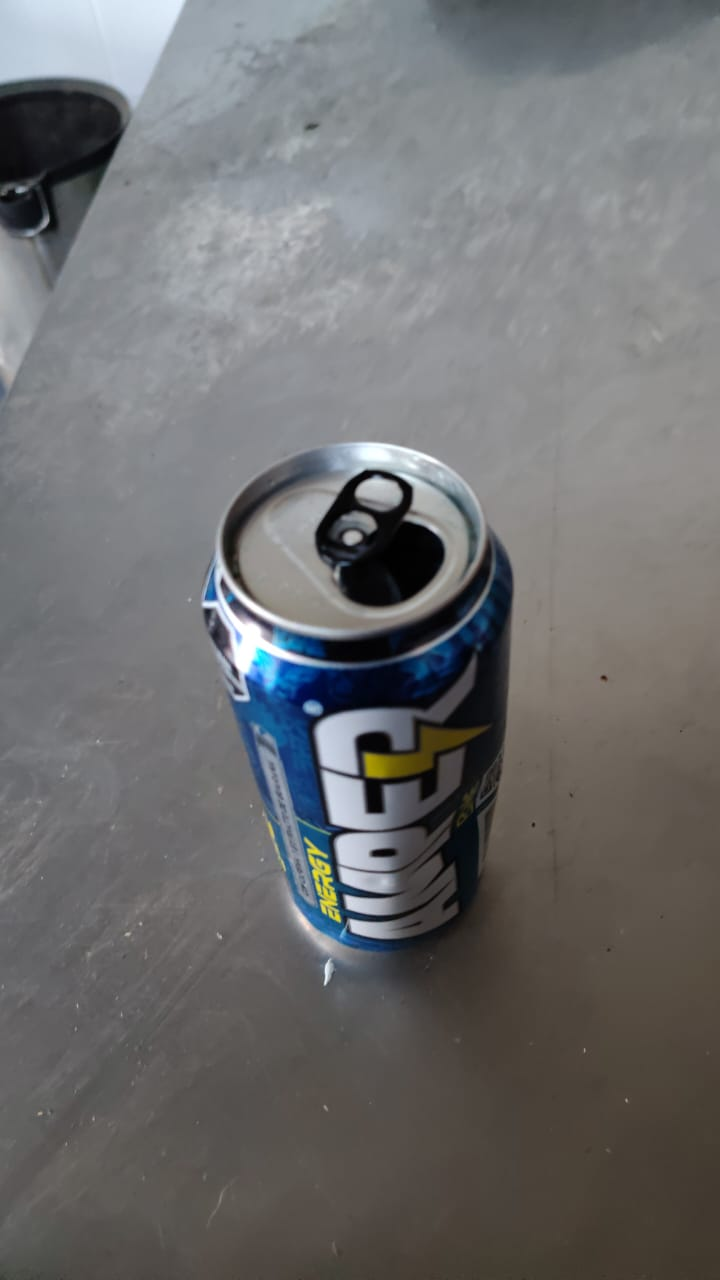Metal: (200, 443, 512, 955)
